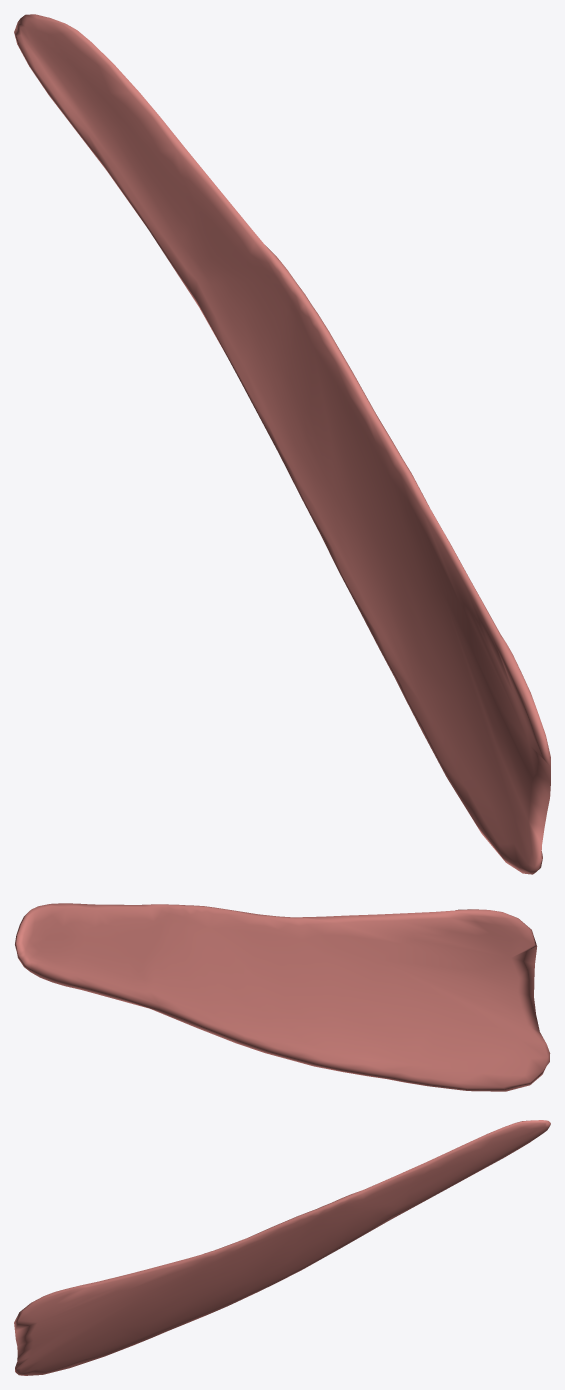
3 views of the same model, one above another, from view 1: azimuth 30°, elevation 25°; view 2: azimuth 150°, elevation 25°; view 3: azimuth 270°, elevation 25° (orthographic). The views are drawn at different scales.
Parts seen in each view (by area): view 1: ZA_4af46857af9e1994; view 2: ZA_4af46857af9e1994; view 3: ZA_4af46857af9e1994.
Boxes of the visible parts, box(x1,y1,x2,y2) form: ZA_4af46857af9e1994: box(14, 14, 550, 874); ZA_4af46857af9e1994: box(15, 903, 550, 1091); ZA_4af46857af9e1994: box(14, 1120, 550, 1375).
Size of the model in its own units: 0.00367 by 0.0225 by 0.0423.
